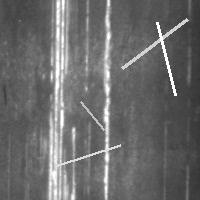scratches: (46, 1, 79, 199), (117, 14, 192, 73), (99, 1, 115, 199), (50, 140, 125, 171), (152, 17, 180, 100), (76, 97, 109, 135)
